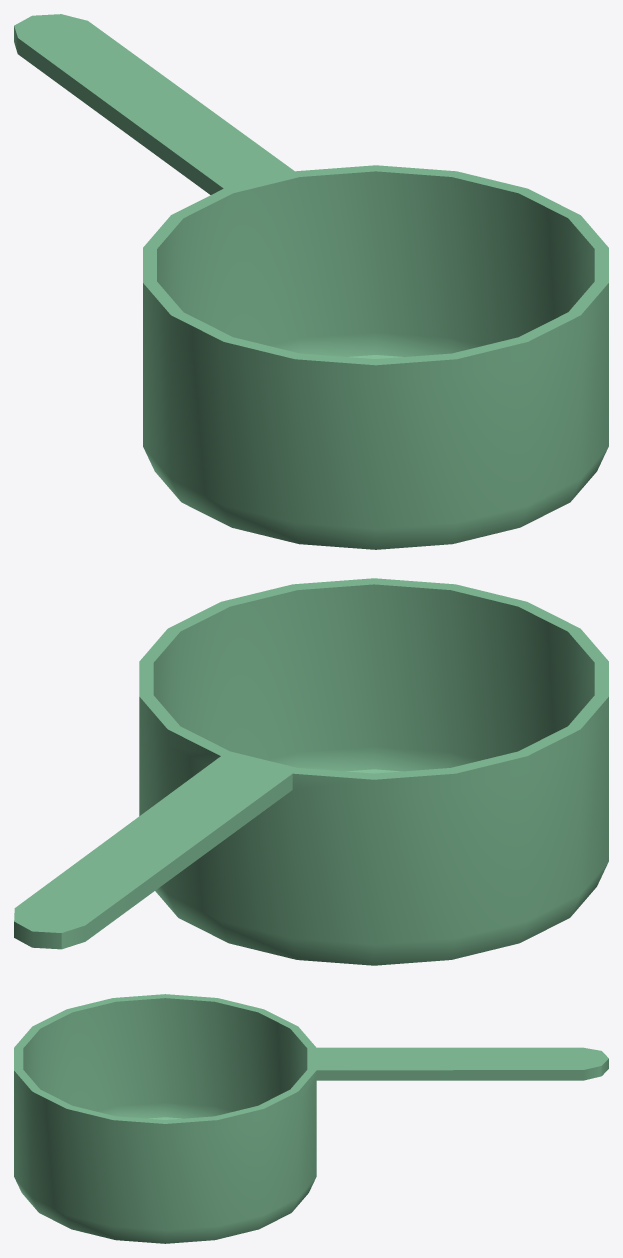
File: Spoon_02_M.fbx
3 renders of one model, top to bottom at view 1: azimuth 30°, elevation 25°; view 2: azimuth 150°, elevation 25°; view 3: azimuth 270°, elevation 25°, orthographic. The views are drawn at different scales.
Parts seen in each view (by area): view 1: Spoon_02; view 2: Spoon_02; view 3: Spoon_02.
Part boxes in pixels (x1,y1,x2,y2): Spoon_02: [14, 14, 608, 549]; Spoon_02: [14, 578, 608, 965]; Spoon_02: [14, 994, 608, 1243].
Size of the model in its own units: 50.39 by 23.56 by 97.55.
Materials: 1 (1 with a texture image).
